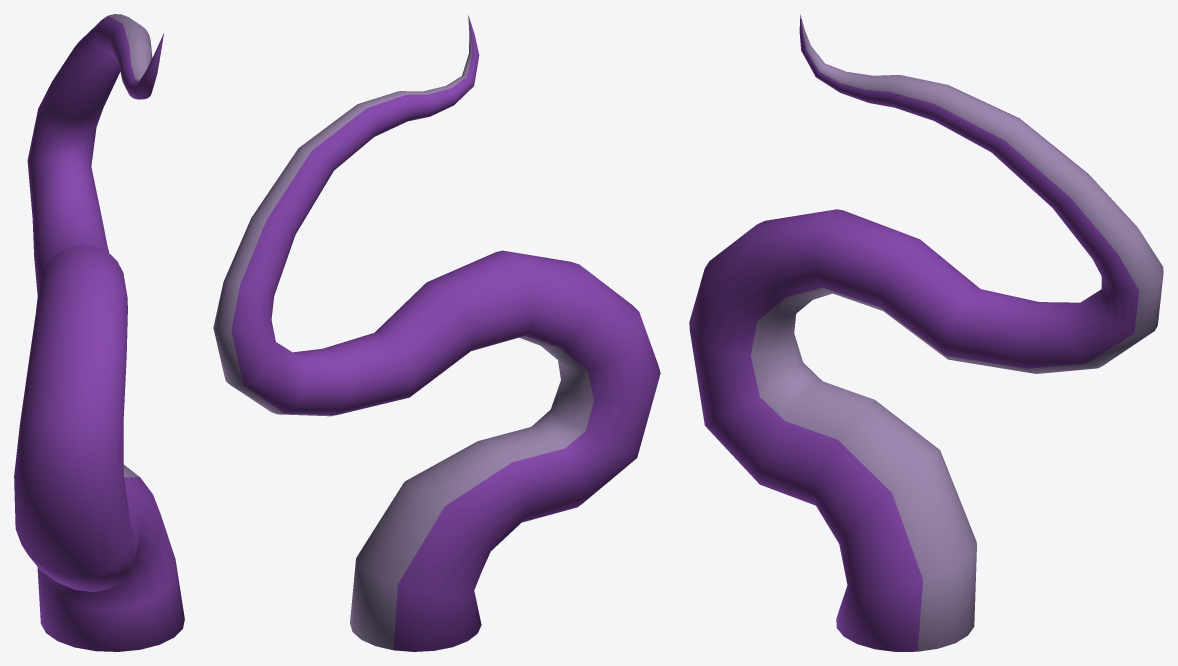
The model's file is Tentacle.fbx.
The picture shows the model from 3 angles, left to right: view 1: azimuth 30°, elevation 25°; view 2: azimuth 150°, elevation 25°; view 3: azimuth 270°, elevation 25°; orthographic projection. The views are drawn at different scales.
Parts seen in each view (by area): view 1: pCylinder3; view 2: pCylinder3; view 3: pCylinder3.
Boxes of the visible parts, x1,y1,x2,y2 form: pCylinder3: (14, 14, 184, 651); pCylinder3: (213, 15, 660, 651); pCylinder3: (689, 14, 1163, 651).
Bounding box in the file's own units: 0.2215 × 0.485 × 0.3432.
